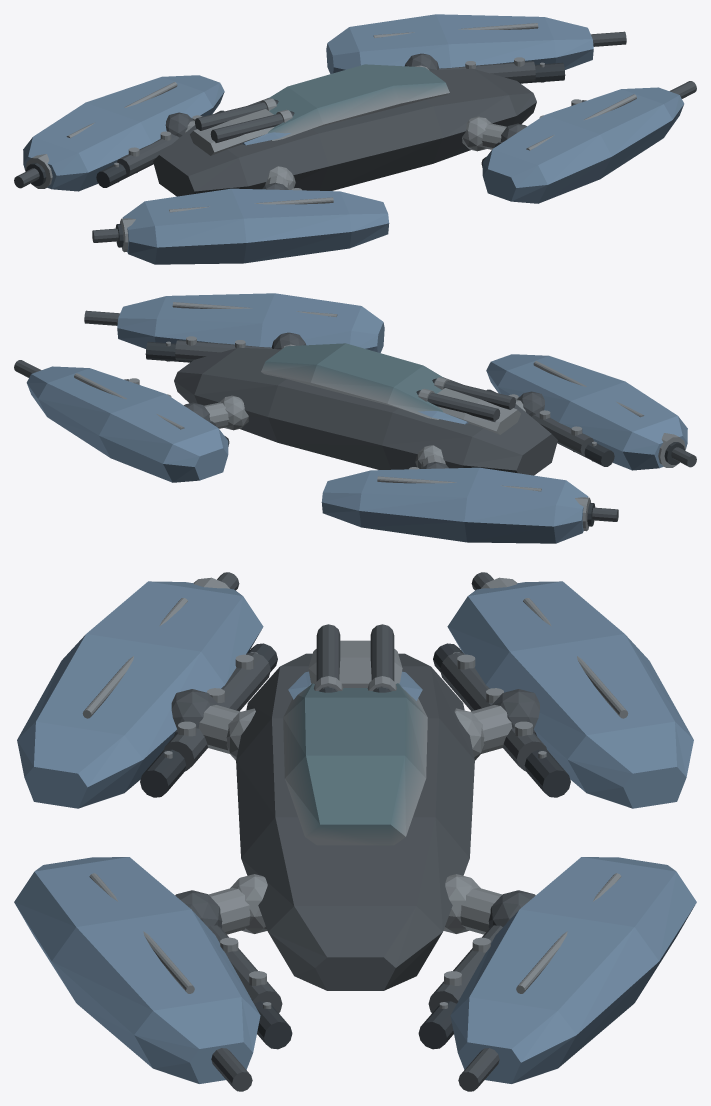
The model's file is x5_blue_compact_off.glb.
3 views of the same model, one above another, from view 1: azimuth 30°, elevation 25°; view 2: azimuth 150°, elevation 25°; view 3: azimuth 270°, elevation 25° (orthographic). The views are drawn at different scales.
Parts seen in each view (by area): view 1: pod_armor_10, center_hull_0, cabin_base_1, pod_mechanics_15, missile_body_3, pod_rail_11, forward_gun_12, launcher_saddle_2, outer_joint_9, inner_drive_rail_17, inner_joint_7, mechanical_arms_8 (+2 smaller); view 2: pod_armor_10, center_hull_0, cabin_base_1, pod_mechanics_15, missile_body_3, pod_rail_11, forward_gun_12, launcher_saddle_2, outer_joint_9, inner_drive_rail_17, inner_joint_7, mechanical_arms_8 (+2 smaller); view 3: pod_armor_10, center_hull_0, cabin_base_1, pod_mechanics_15, inner_drive_rail_17, mechanical_arms_8, outer_joint_9, inner_joint_7, pod_rail_11, missile_body_3, forward_gun_12, mechanical_crossbeam_16 (+1 smaller).
Boxes of the visible parts, x1,y1,x2,y2 form: pod_armor_10: (23, 14, 684, 264); center_hull_0: (153, 68, 536, 196); cabin_base_1: (268, 64, 449, 140); pod_mechanics_15: (117, 61, 586, 177); missile_body_3: (195, 100, 292, 142); pod_rail_11: (66, 23, 636, 212); forward_gun_12: (14, 31, 696, 242); launcher_saddle_2: (190, 109, 273, 155); outer_joint_9: (165, 53, 526, 189); inner_drive_rail_17: (96, 62, 565, 187); inner_joint_7: (267, 116, 491, 189); mechanical_arms_8: (185, 65, 506, 189); pod_armor_10: (26, 293, 687, 543); center_hull_0: (174, 347, 557, 475); cabin_base_1: (261, 343, 443, 419); pod_mechanics_15: (124, 340, 593, 456); missile_body_3: (418, 379, 515, 421); pod_rail_11: (74, 302, 644, 491); forward_gun_12: (14, 310, 696, 521); launcher_saddle_2: (437, 388, 520, 434); outer_joint_9: (184, 332, 544, 468); inner_drive_rail_17: (145, 341, 614, 466); inner_joint_7: (219, 395, 443, 468); mechanical_arms_8: (204, 344, 525, 468); pod_armor_10: (14, 581, 696, 1083); center_hull_0: (236, 653, 474, 990); cabin_base_1: (283, 683, 427, 845); pod_mechanics_15: (163, 652, 547, 1012); inner_drive_rail_17: (140, 643, 570, 1049); mechanical_arms_8: (198, 705, 512, 934); outer_joint_9: (171, 689, 539, 928); inner_joint_7: (226, 708, 484, 933); pod_rail_11: (82, 598, 628, 993); missile_body_3: (316, 624, 394, 691); forward_gun_12: (211, 572, 499, 1091); mechanical_crossbeam_16: (178, 654, 532, 985).
Size of the model in its own units: 7.07 by 0.9 by 4.06.
